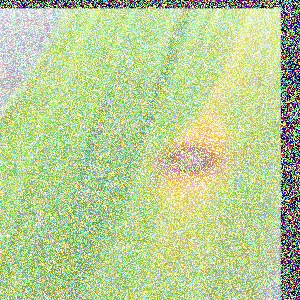Bacterial_Leaf_Blight: (145, 119, 236, 202), (193, 35, 225, 57)
